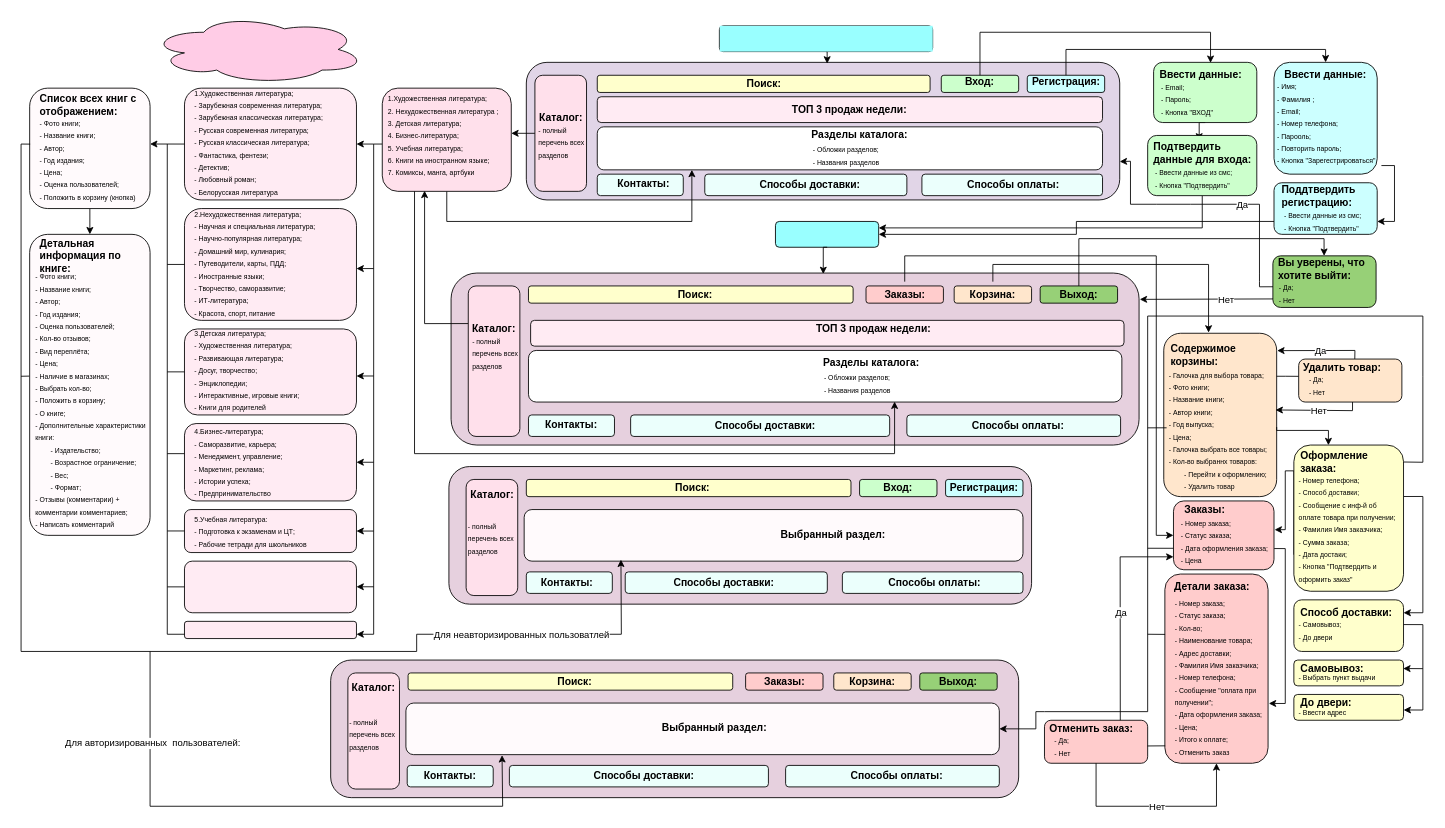
The diagram is 1445 pixels wide and 828 high, and some of its shapes have lost their labels. The centre of each missing label's shape, as x and y in pixels:
6.Книги на иностранном языке: - Английский; - Французский; -Немецкий: pixel 270 586
7.Комиксы, манга, артбуки: pixel 270 629
Главная:: pixel 827 234
Интеренет-магазин книг:: pixel 257 49
Неавторизованный пользователь:: pixel 825 38
